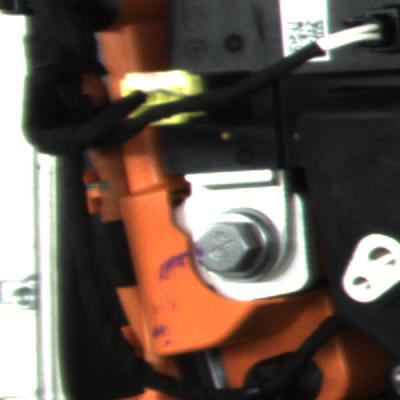nut_b: (186, 205, 287, 290)
